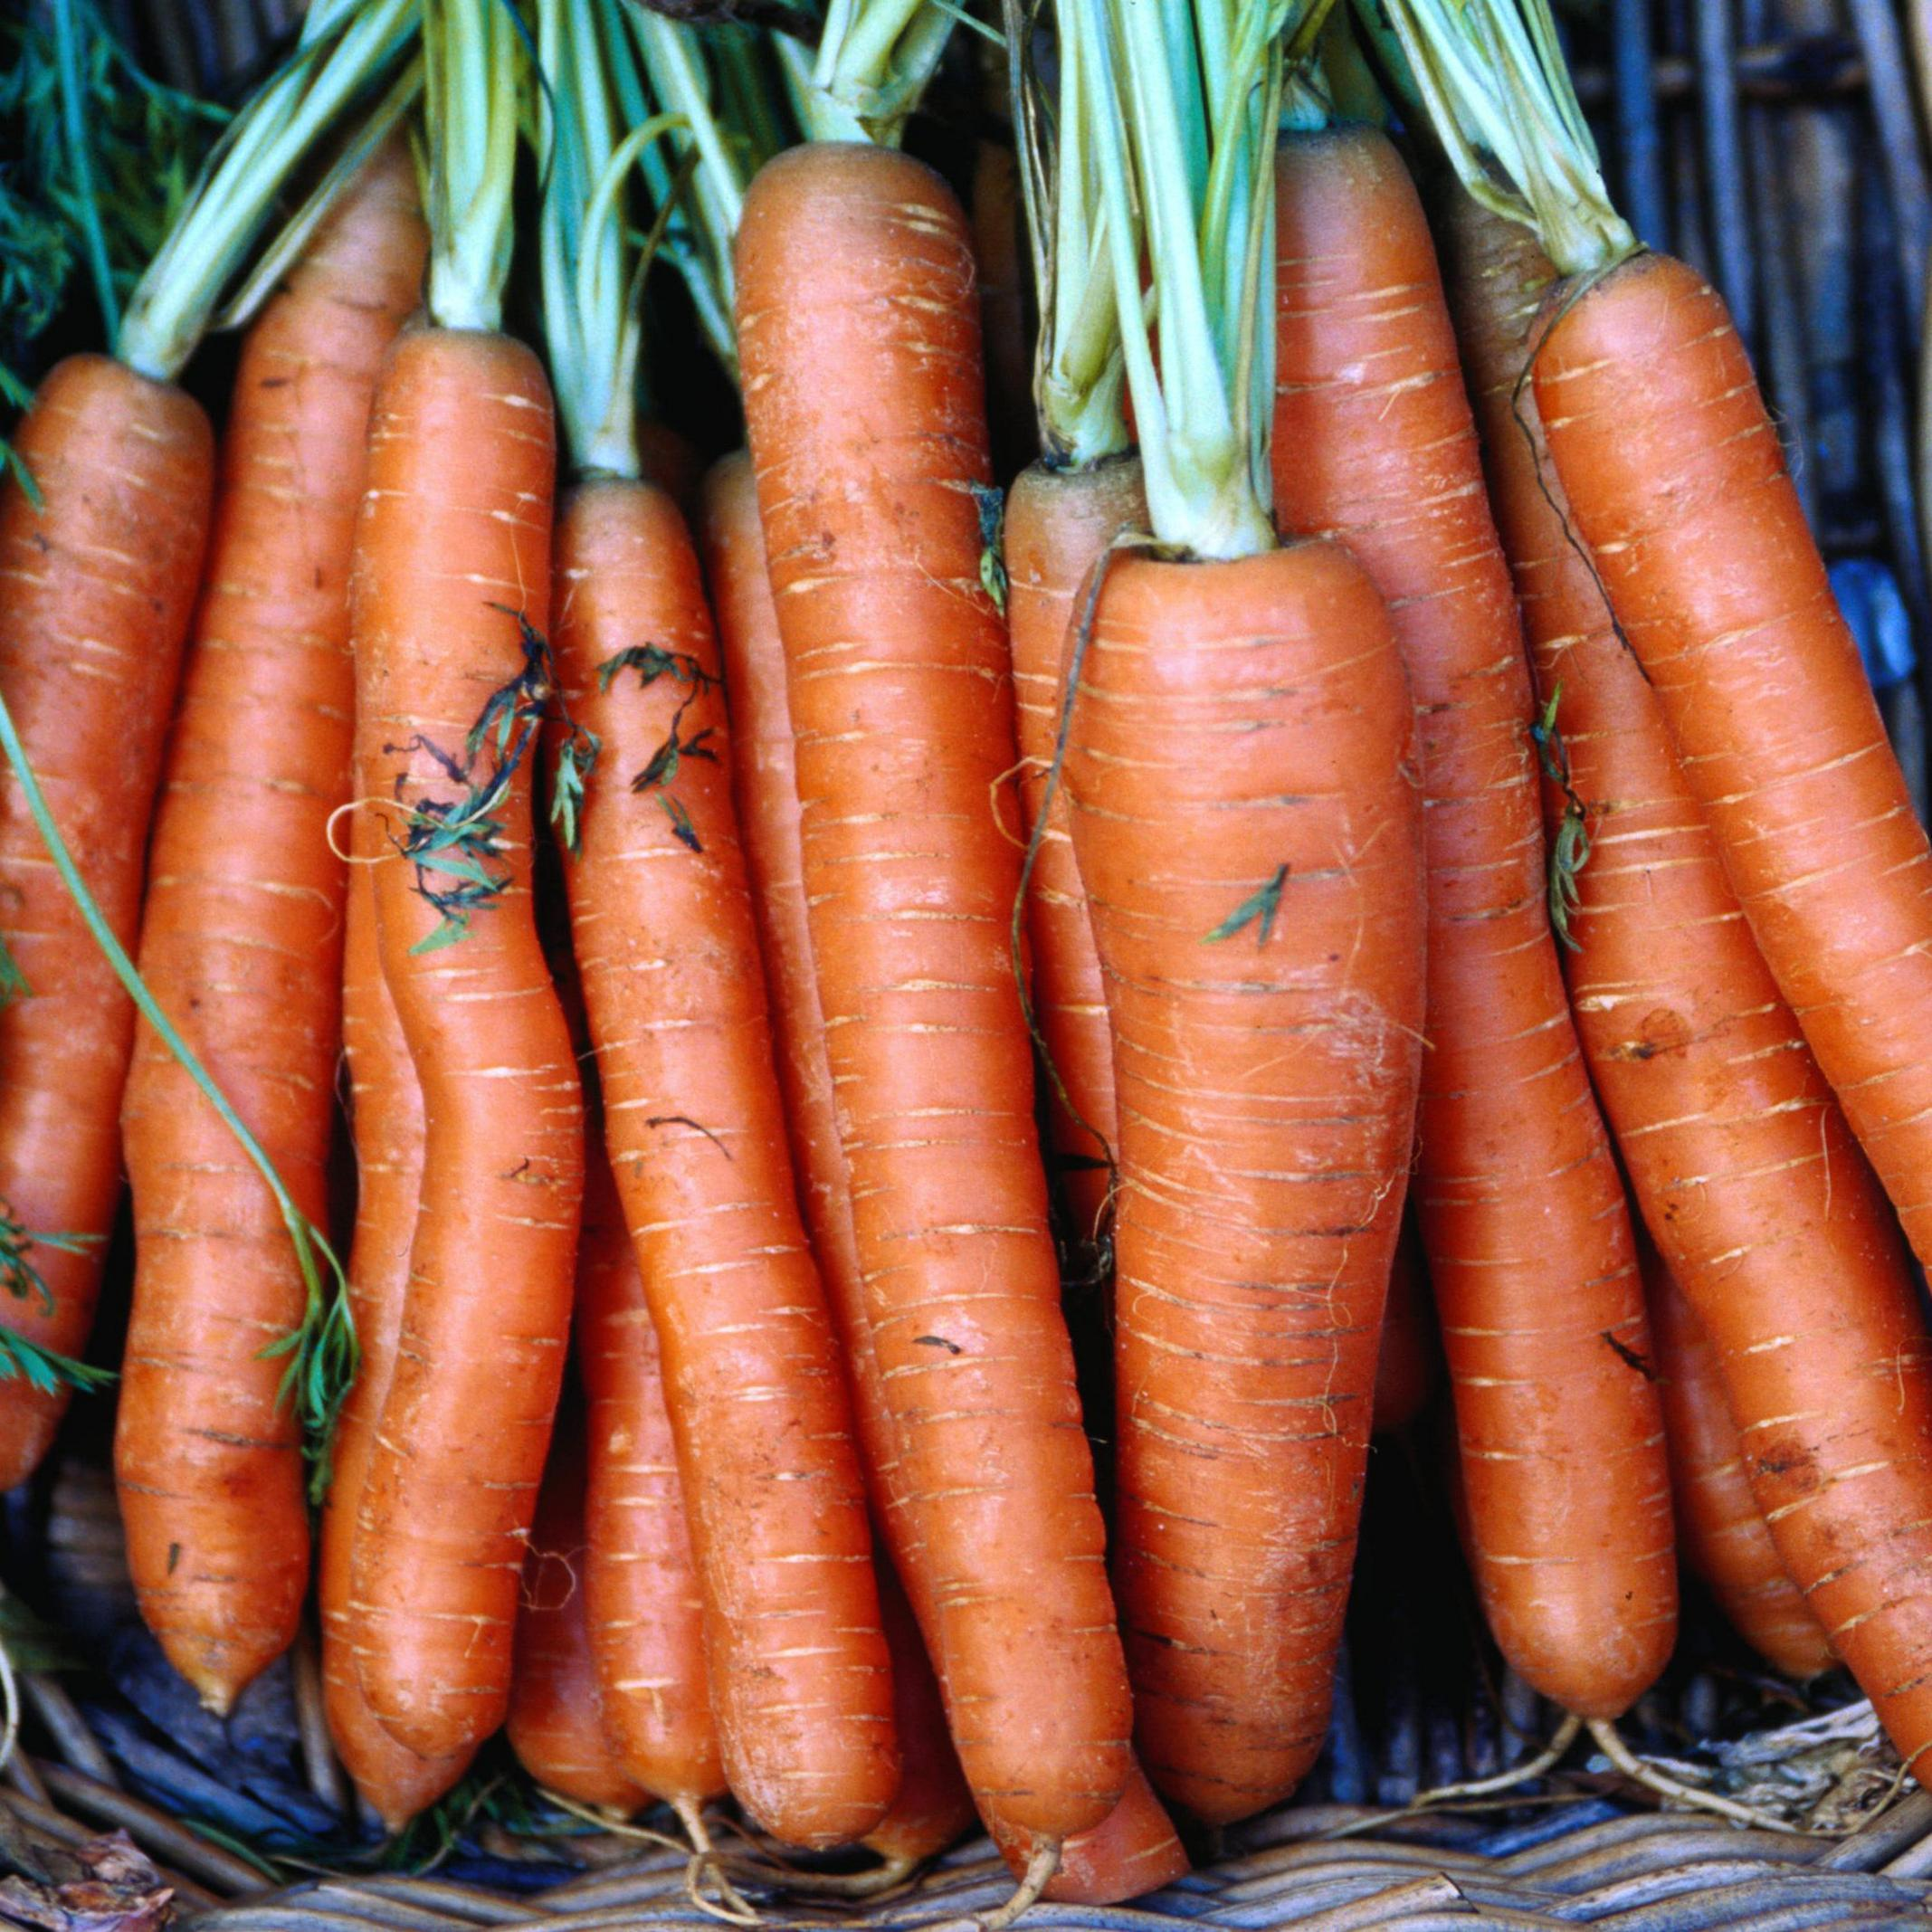carrot: (165, 184, 1932, 1872), (363, 308, 853, 1815), (982, 467, 1493, 1762), (0, 352, 163, 1537)
